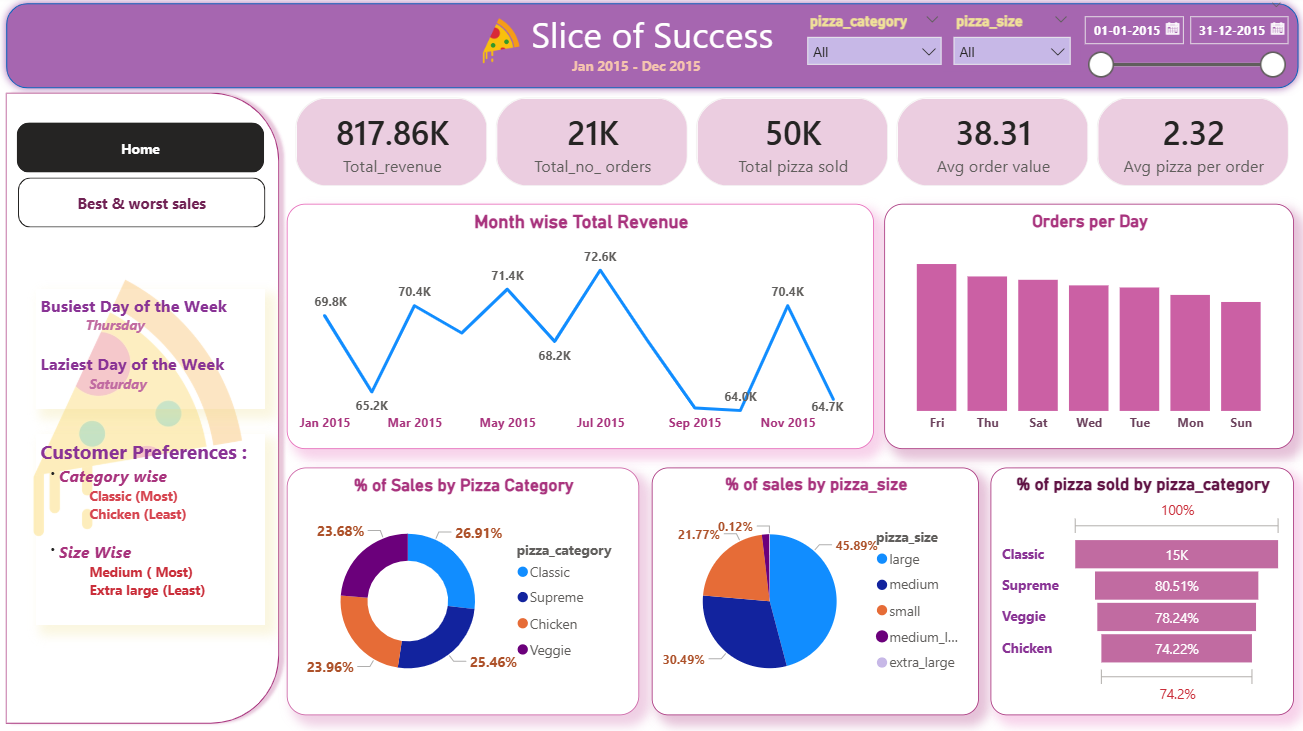

The page's visual inventory and layout, read from the dashboard file:
{"tool":"powerbi","page":{"name":"Home","canvas":[1280,720],"ordinal":0},"visuals":[{"type":"cardVisual","fields":{"Data":["pizza pizza_sales.Total_revenue","pizza pizza_sales.Total_no_ orders","pizza pizza_sales.Total pizza sold","pizza pizza_sales.Avg order value","pizza pizza_sales.Avg pizza per order"]},"box":[273.9,83.2,1006.4,121.1],"z":0},{"type":"shape","title":"y","box":[0,0,1280.3,99.3],"z":1000},{"type":"image","box":[461.2,20.4,62.6,47.6],"z":2000},{"type":"textbox","box":[556.5,54.4,167.3,28.6],"z":3000},{"type":"slicer","fields":{"Values":["pizza pizza_sales.pizza_category"]},"box":[781.4,12.2,151.6,75.8],"z":4000},{"type":"slicer","fields":{"Values":["pizza pizza_sales.order_date"]},"box":[1050.4,2.4,217.7,96.6],"z":5000},{"type":"lineChart","title":"Month wise Total Revenue","fields":{"Category":["pizza pizza_sales.order_date.Variation.Date Hierarchy.Year","pizza pizza_sales.order_date.Variation.Date Hierarchy.Quarter","pizza pizza_sales.order_date.Variation.Date Hierarchy.Month","pizza pizza_sales.order_date.Variation.Date Hierarchy.Day"],"Y":["Sum(pizza pizza_sales.total_price)"]},"box":[282.5,204.2,574.7,239.7],"z":6000},{"type":"columnChart","title":"Orders per Day","fields":{"Category":["pizza pizza_sales.day name"],"Y":["Count(pizza pizza_sales.order_id)"]},"box":[867,204.2,401.1,239.7],"z":7000},{"type":"donutChart","title":"% of Sales by Pizza Category","fields":{"Category":["pizza pizza_sales.pizza_category"],"Y":["Sum(pizza pizza_sales.total_price)"]},"box":[282.5,462.2,344.8,242.1],"z":8000},{"type":"pieChart","title":"% of sales  by pizza_size","fields":{"Category":["pizza pizza_sales.pizza_size"],"Y":["Sum(pizza pizza_sales.total_price)"]},"box":[639.5,462.2,320.4,242.1],"z":9000},{"type":"slicer","fields":{"Values":["pizza pizza_sales.pizza_size"]},"box":[924.5,12.2,134.5,62.4],"z":10000},{"type":"funnel","title":"% of pizza sold by pizza_category","fields":{"Category":["pizza pizza_sales.pizza_category"],"Y":["pizza pizza_sales.Total pizza sold"]},"box":[970.9,462.2,297.1,242.1],"z":11000},{"type":"shape","box":[0,88,282.5,632.2],"z":12000},{"type":"image","box":[0,124.7,273.9,558.8],"z":13000},{"type":"textbox","box":[36.7,287.4,225,117.4],"z":14000},{"type":"textbox","box":[36.7,429.2,225,187.1],"z":15000},{"type":"pageNavigator","box":[18.8,125.1,242.1,49.8],"z":16000},{"type":"pageNavigator","box":[20.2,178.9,242.1,49.8],"z":17000}]}

Visuals, with their boxes in screenshot pixels (x1, y1, x2, y2), scaled from the page's 1280x720 canvas onto the 1303x731 screenshot:
cardVisual - pizza pizza_sales.Total_revenue x pizza pizza_sales.Total_no_ orders: box=[279, 84, 1302, 207]
"y" shape: box=[0, 0, 1302, 101]
image: box=[469, 21, 533, 69]
textbox: box=[566, 55, 737, 84]
slicer - pizza pizza_sales.pizza_category: box=[795, 12, 950, 89]
slicer - pizza pizza_sales.order_date: box=[1069, 2, 1291, 101]
"Month wise Total Revenue" lineChart: box=[288, 207, 873, 451]
"Orders per Day" columnChart: box=[883, 207, 1291, 451]
"% of Sales by Pizza Category" donutChart: box=[288, 469, 639, 715]
"% of sales  by pizza_size" pieChart: box=[651, 469, 977, 715]
slicer - pizza pizza_sales.pizza_size: box=[941, 12, 1078, 76]
"% of pizza sold by pizza_category" funnel: box=[988, 469, 1291, 715]
shape: box=[0, 89, 288, 730]
image: box=[0, 127, 279, 694]
textbox: box=[37, 292, 266, 411]
textbox: box=[37, 436, 266, 626]
pageNavigator: box=[19, 127, 266, 178]
pageNavigator: box=[21, 182, 267, 232]
